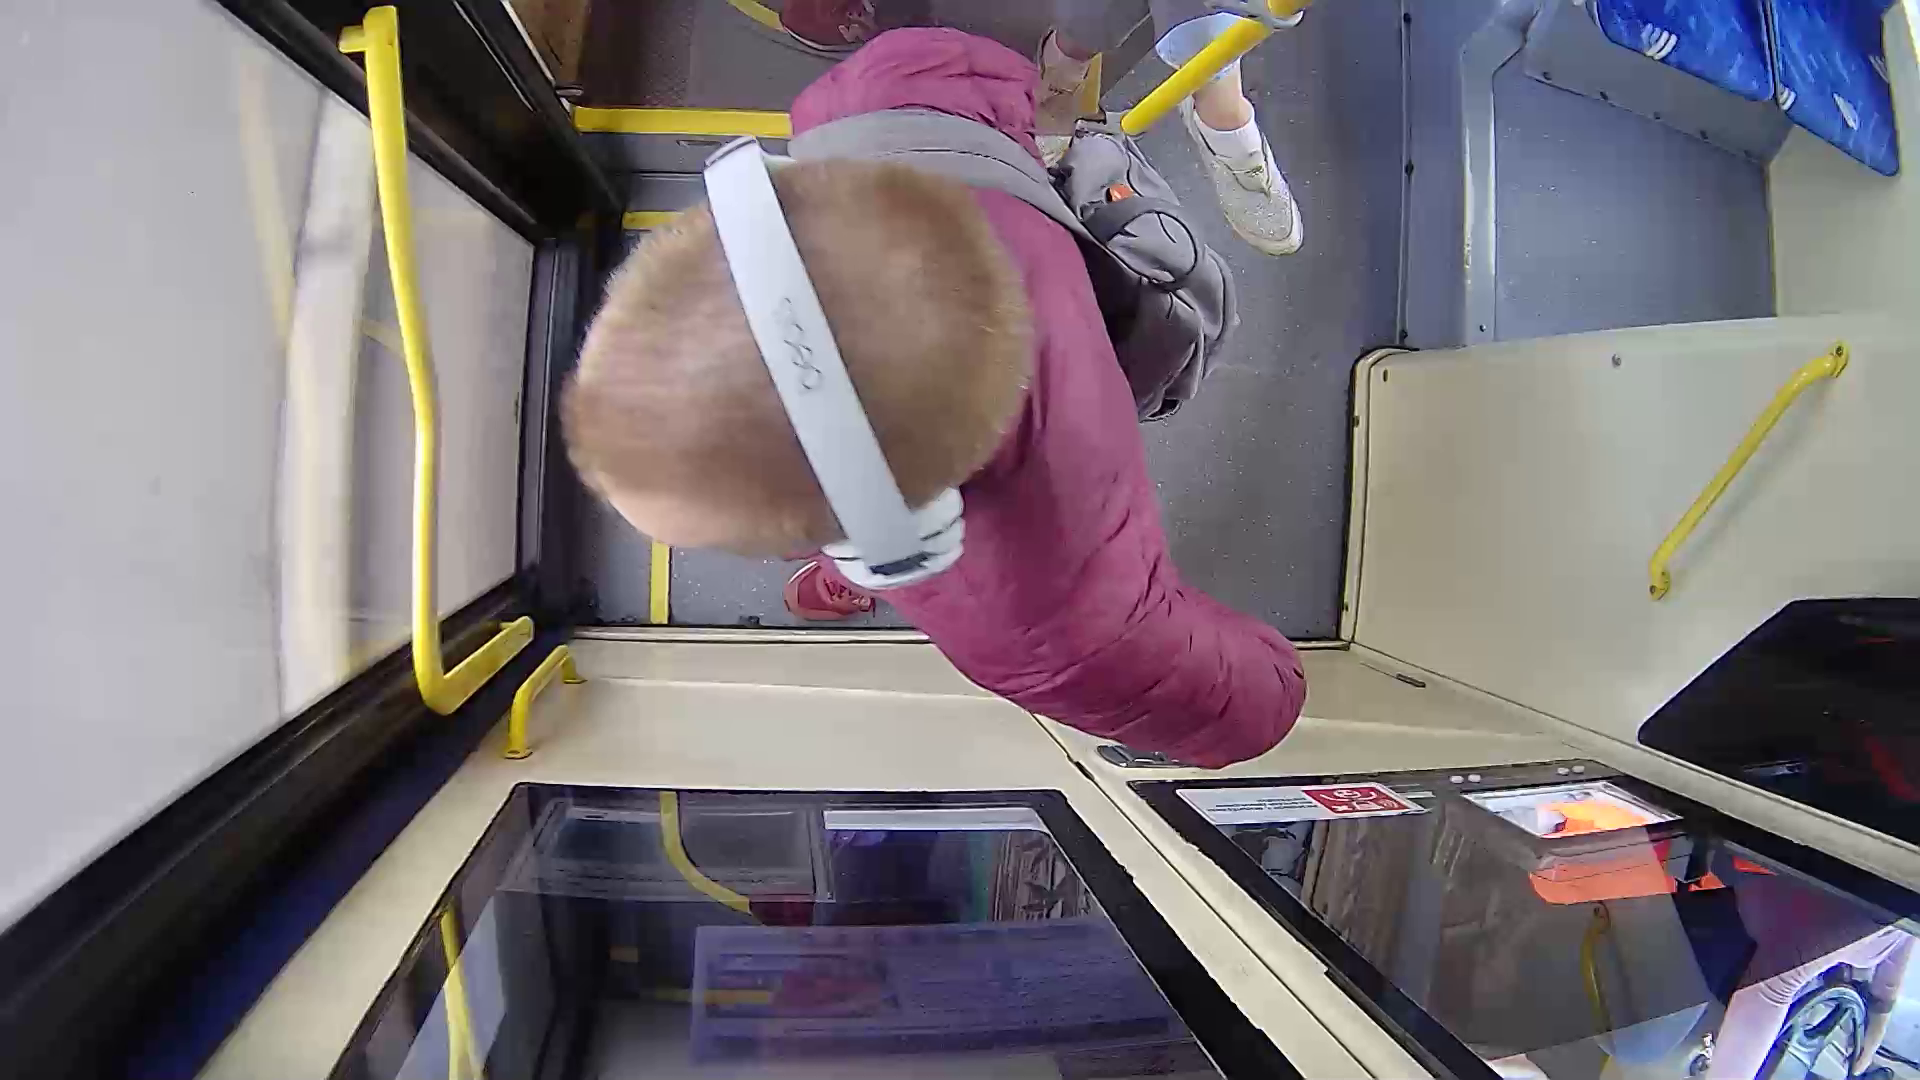person: (488, 92, 1387, 754)
